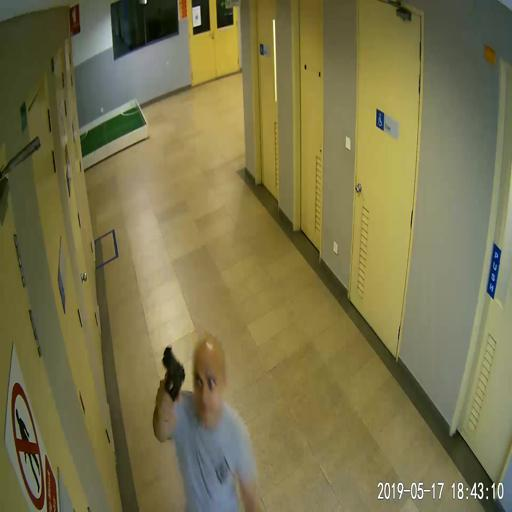pistol: (160, 344, 185, 405)
